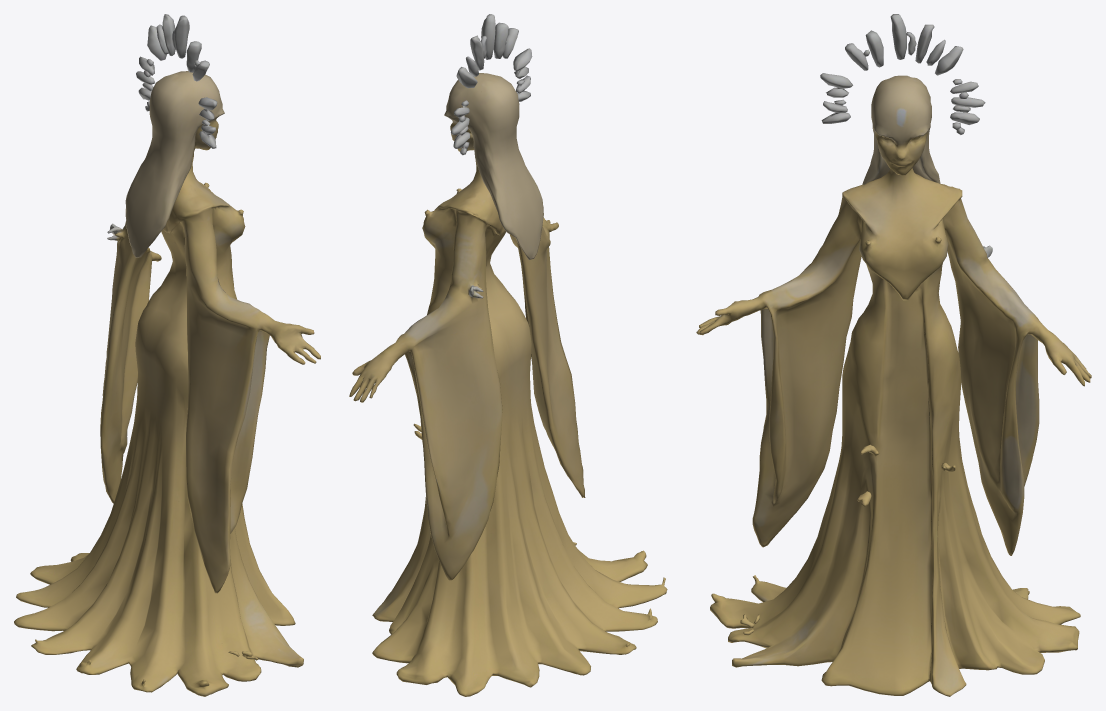
3 views of the same model, side by side, from view 1: azimuth 30°, elevation 25°; view 2: azimuth 150°, elevation 25°; view 3: azimuth 270°, elevation 25° (orthographic). The views are drawn at different scales.
Visible parts, largest first — view 1: tripo_node_35b4e0e4-1174-4ad3-a650-4708d799e7ff; view 2: tripo_node_35b4e0e4-1174-4ad3-a650-4708d799e7ff; view 3: tripo_node_35b4e0e4-1174-4ad3-a650-4708d799e7ff.
Part boxes in pixels (<box>): tripo_node_35b4e0e4-1174-4ad3-a650-4708d799e7ff: <box>14,14,320,696</box>; tripo_node_35b4e0e4-1174-4ad3-a650-4708d799e7ff: <box>349,14,667,696</box>; tripo_node_35b4e0e4-1174-4ad3-a650-4708d799e7ff: <box>696,14,1091,696</box>.
Bounding box in the file's own units: 0.411 × 1 × 0.5616.
Materials: 1 (1 with a texture image).
